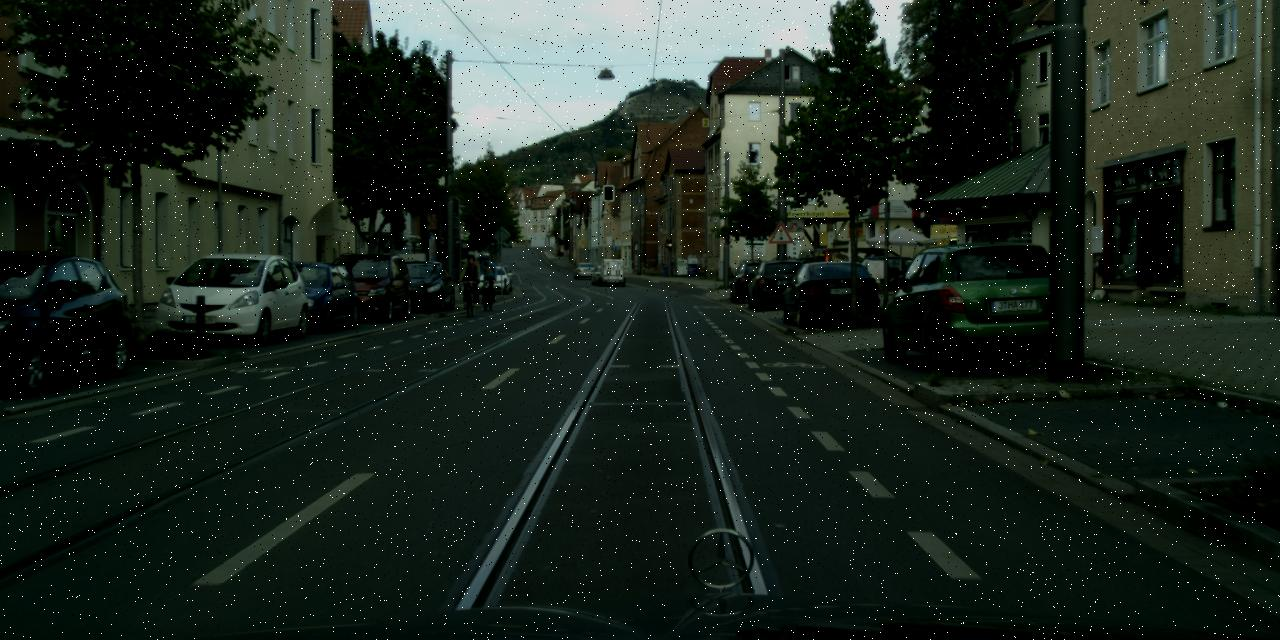ped: (477, 252, 497, 302), (460, 255, 480, 304)
